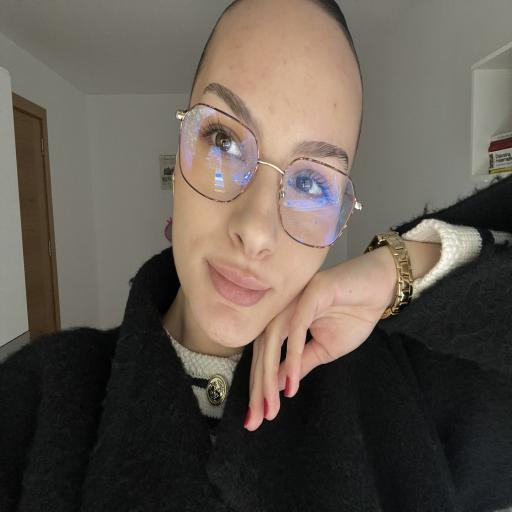marija: (172, 3, 361, 346)
